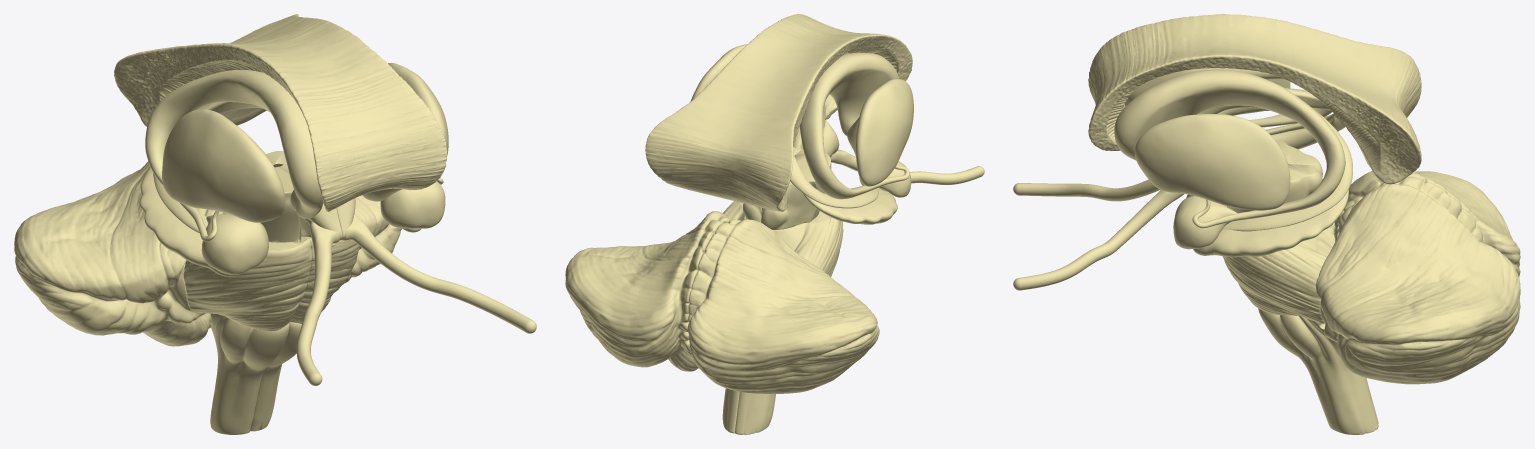
The model's file is nervous.glb.
3 views of the same model, side by side, from view 1: azimuth 30°, elevation 25°; view 2: azimuth 150°, elevation 25°; view 3: azimuth 270°, elevation 25° (orthographic). The views are drawn at different scales.
Visible parts, largest first — view 1: FMA86464, FMA67944, FMA72828, FMA67943, FMA72826, FMA62004, FMA50878, FMA72832, FMA50875, FMA72713, FMA72833, FMA61993nsn (+3 smaller); view 2: FMA67944, FMA86464, FMA72826, FMA72828, FMA67943, FMA61993nsn, FMA62004, FMA72713, FMA72924, FMA50875, FMA72829, FMA72832 (+1 smaller); view 3: FMA67944, FMA86464, FMA72829, FMA72827, FMA62004, FMA67943, FMA72714, FMA50878, FMA72925, FMA72833, FMA50875, FMA61993nsn (+3 smaller).
Boxes of the visible parts, bbox=[...] form: FMA86464: bbox=[114, 14, 447, 211]; FMA67944: bbox=[14, 137, 401, 346]; FMA72828: bbox=[162, 109, 285, 222]; FMA67943: bbox=[183, 236, 359, 331]; FMA72826: bbox=[145, 70, 323, 241]; FMA62004: bbox=[209, 313, 301, 434]; FMA50878: bbox=[342, 213, 536, 333]; FMA72832: bbox=[201, 214, 268, 274]; FMA50875: bbox=[296, 221, 339, 385]; FMA72713: bbox=[139, 167, 238, 276]; FMA72833: bbox=[380, 181, 445, 228]; FMA61993nsn: bbox=[260, 151, 311, 242]; FMA67944: bbox=[565, 211, 879, 393]; FMA86464: bbox=[645, 14, 912, 211]; FMA72826: bbox=[799, 52, 909, 199]; FMA72828: bbox=[855, 78, 913, 186]; FMA67943: bbox=[723, 193, 843, 277]; FMA61993nsn: bbox=[743, 147, 831, 229]; FMA62004: bbox=[722, 388, 775, 434]; FMA72713: bbox=[803, 185, 897, 224]; FMA72924: bbox=[790, 103, 878, 208]; FMA50875: bbox=[830, 149, 984, 184]; FMA72829: bbox=[690, 44, 747, 101]; FMA72832: bbox=[859, 161, 911, 197]; FMA67944: bbox=[1316, 171, 1520, 384]; FMA86464: bbox=[1088, 14, 1421, 184]; FMA72829: bbox=[1134, 114, 1290, 210]; FMA72827: bbox=[1114, 69, 1345, 228]; FMA62004: bbox=[1258, 308, 1378, 434]; FMA67943: bbox=[1222, 205, 1335, 323]; FMA72714: bbox=[1193, 190, 1348, 257]; FMA50878: bbox=[1013, 190, 1183, 290]; FMA72925: bbox=[1197, 105, 1352, 231]; FMA72833: bbox=[1173, 196, 1237, 249]; FMA50875: bbox=[1013, 179, 1159, 201]; FMA61993nsn: bbox=[1227, 141, 1322, 213].
Bounding box in the file's own units: 0.1006 × 0.1121 × 0.1317.
